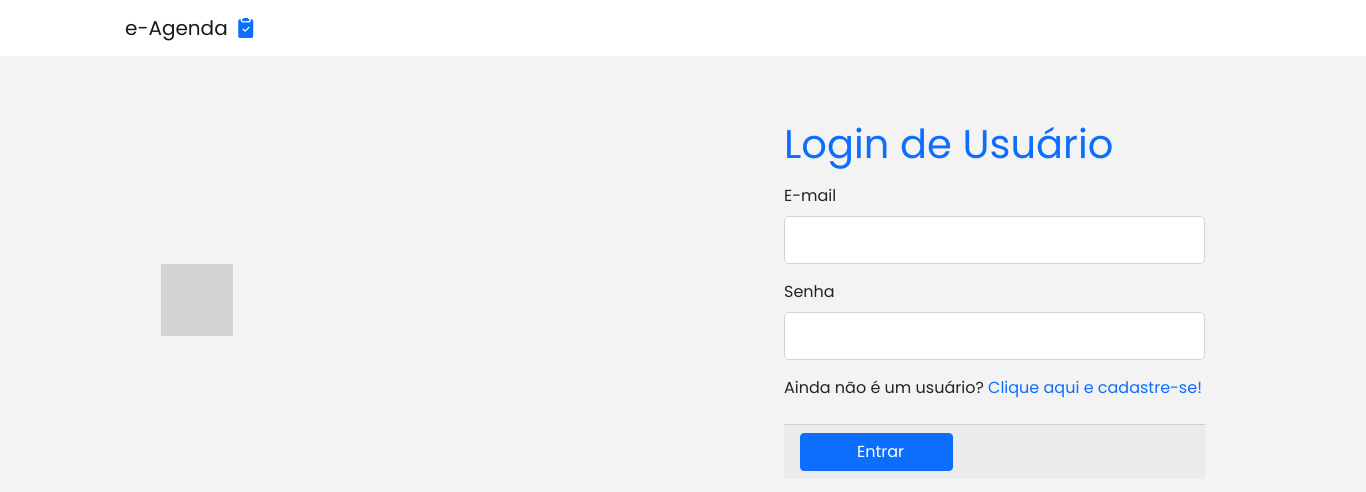
Scenario: Processo de Login do Usuário › Deve validar senha curta
The width and height of the screenshot is (1366, 492).
Type "123" into the password field with test id "senha".
click(995, 336); type("123")  # box [784,312,1205,360]
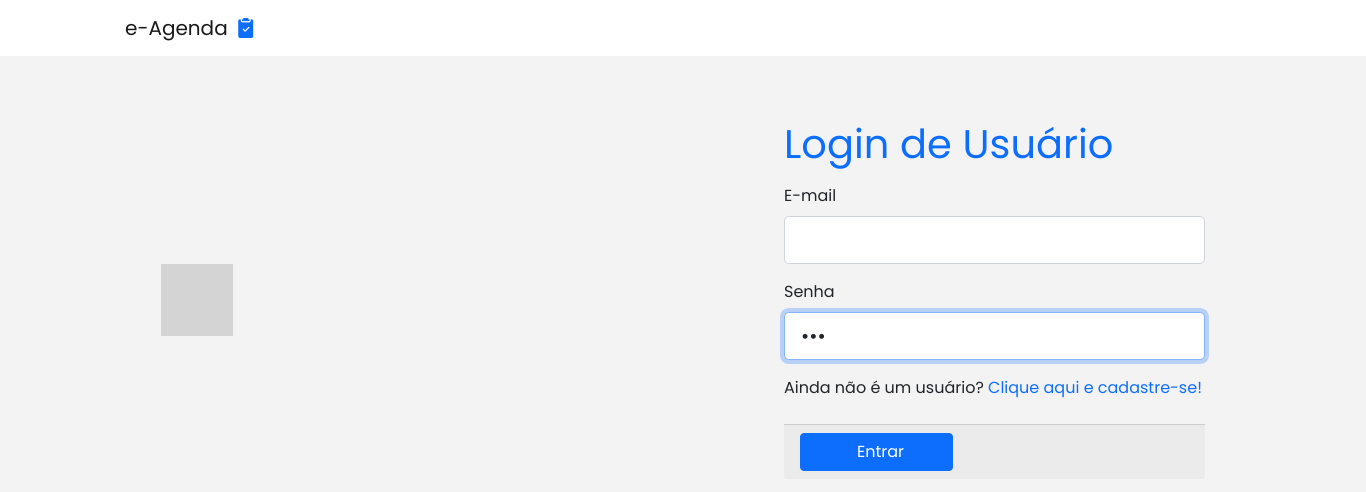
Focus the button with test id "btnEntrar" at point(877, 452), box [800,433,953,471]
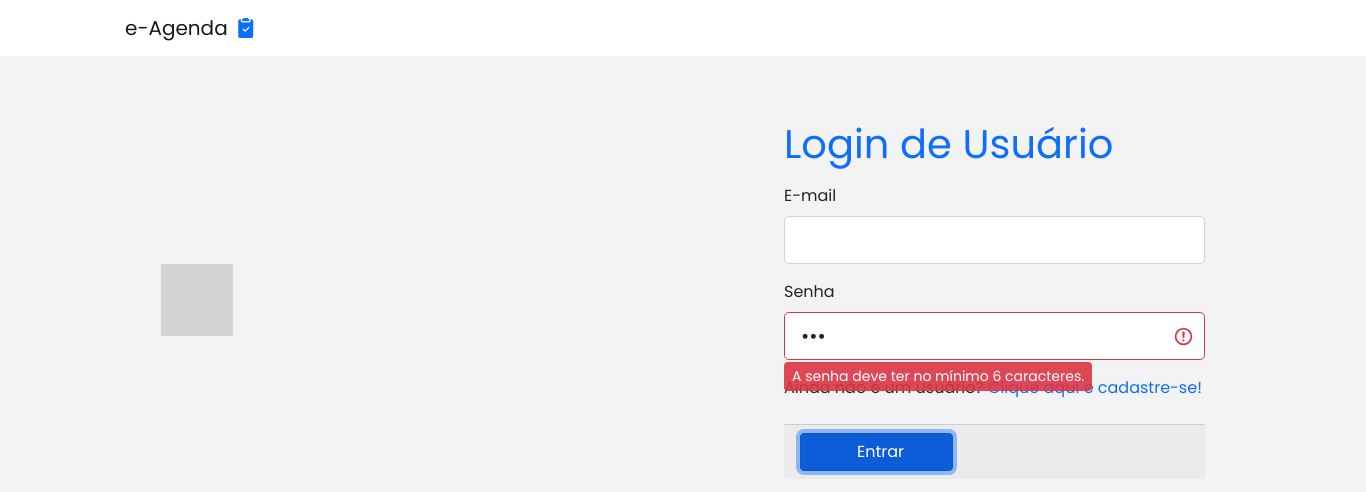
Expected: the text "A senha deve ter no mínimo 6 caracteres." is shown, [792,366,1084,386]
